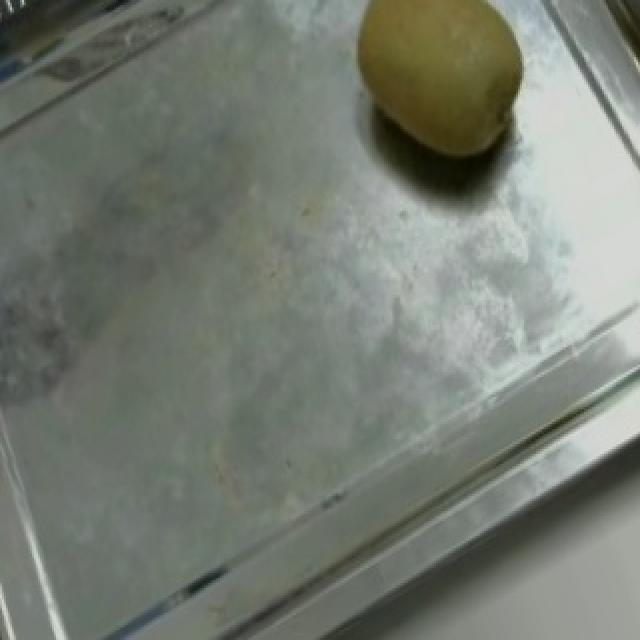Fruit: (318, 0, 558, 193)
